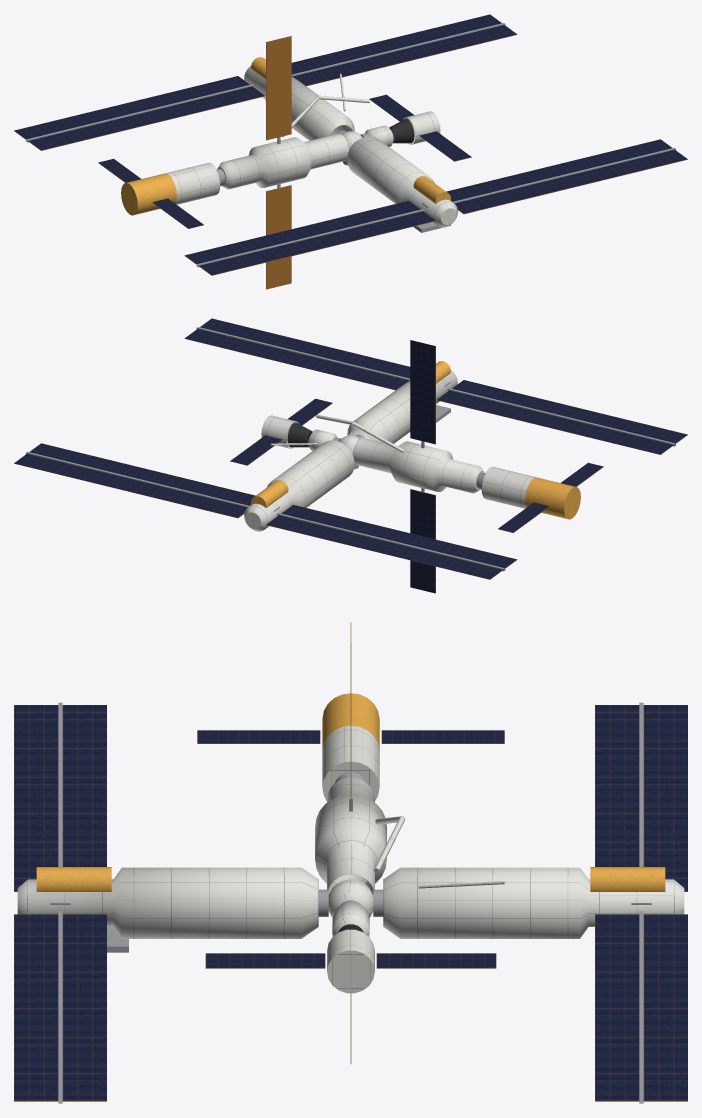
Rendered from tiangong.glb.
The picture shows the model from 3 angles, top to bottom: view 1: azimuth 30°, elevation 25°; view 2: azimuth 150°, elevation 25°; view 3: azimuth 270°, elevation 25°; orthographic projection. The views are drawn at different scales.
Parts seen in each view (by area): view 1: tiangong; view 2: tiangong; view 3: tiangong.
Boxes of the visible parts, x1,y1,x2,y2 form: tiangong: [14, 14, 687, 289]; tiangong: [14, 318, 687, 593]; tiangong: [14, 622, 687, 1103].
Size of the model in its own units: 55 by 27.2 by 39.44.
Materials: 6 (3 with a texture image).
